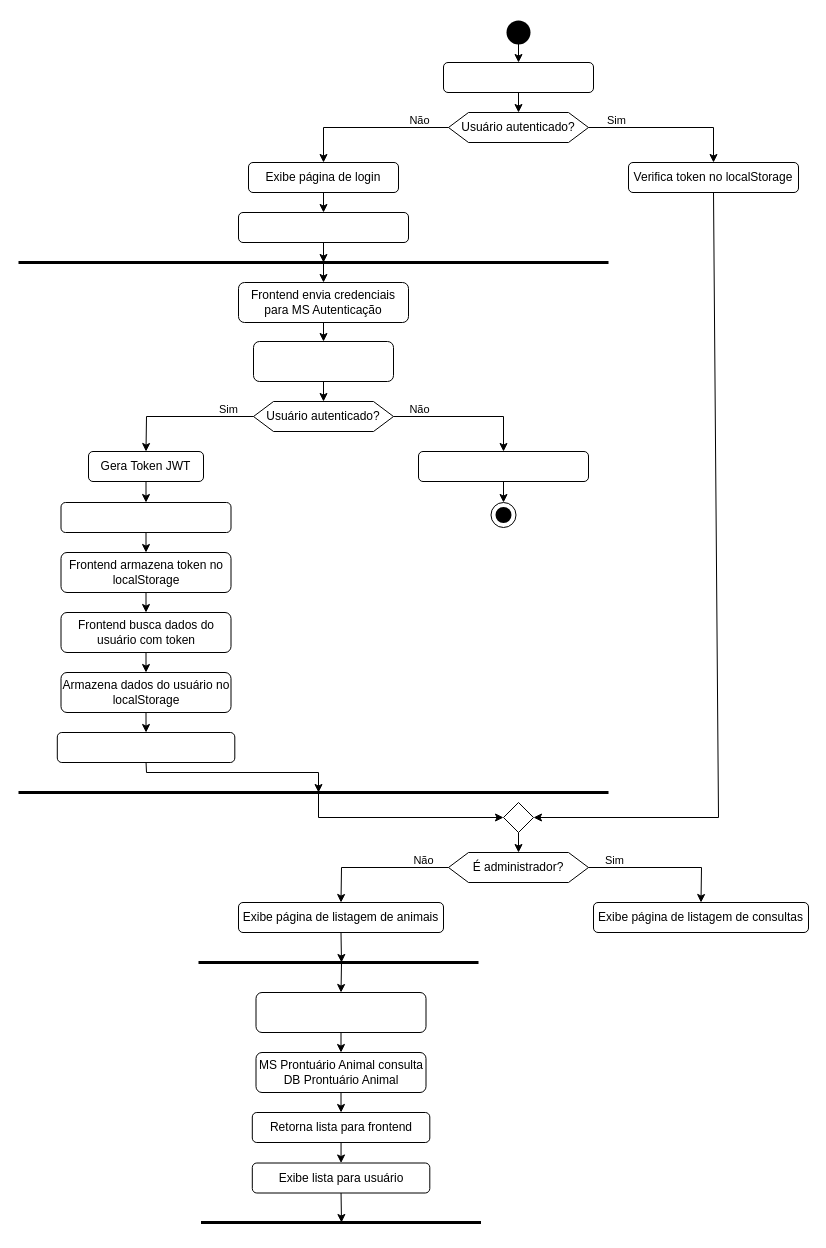
The diagram is 826 pixels wide and 1248 high, and some of its shapes have lost their labels. The box of each missing label's shape, as (x1, y1, x2, y2) in pixels:
Exibe mensagem de erro: (418, 450, 588, 482)
Frontend busca lista completa de animais cadastrados: (255, 992, 426, 1032)
MS Autenticação valida no DB Auth: (252, 340, 394, 382)
Redireciona para página inicial: (56, 732, 235, 762)
Retorna token para frontend: (60, 502, 231, 532)
Usuário acessa sistema: (442, 62, 594, 92)
Usuário informa credenciais: (238, 212, 408, 242)
